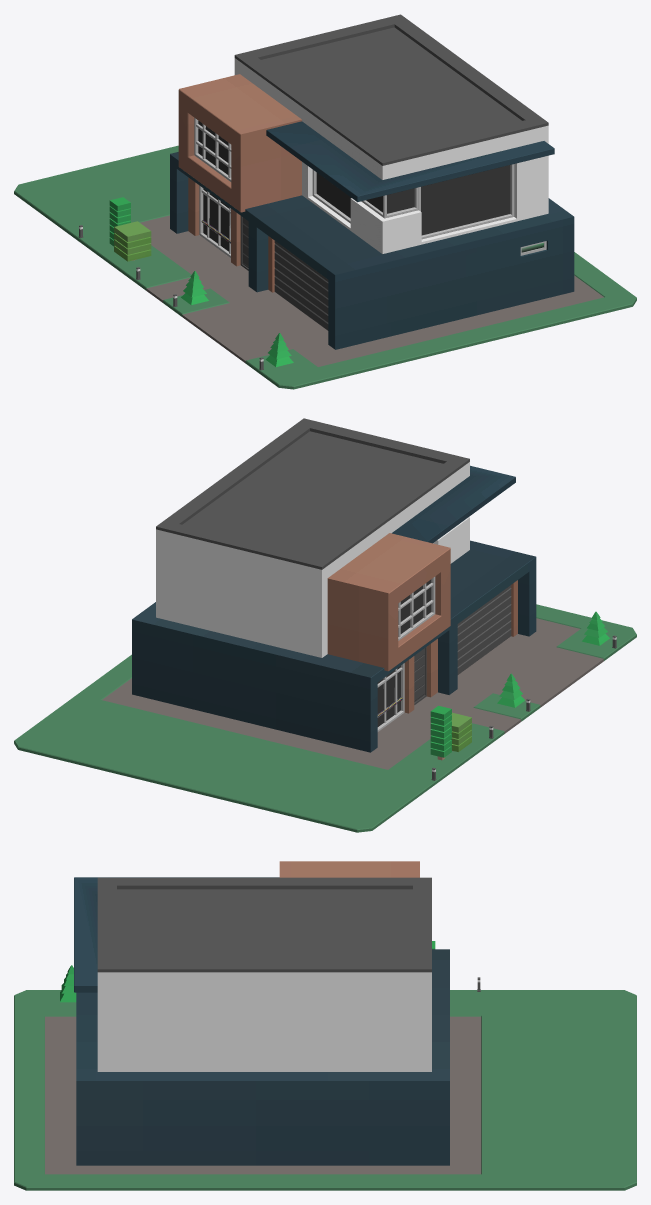
Rendered from bldg-house-c.glb.
3 renders of one model, top to bottom at view 1: azimuth 30°, elevation 25°; view 2: azimuth 150°, elevation 25°; view 3: azimuth 270°, elevation 25°, orthographic. The views are drawn at different scales.
Visible parts, largest first — view 1: house_03.001; view 2: house_03.001; view 3: house_03.001.
Part boxes in pixels (<box>): house_03.001: <box>14,14,636,389</box>; house_03.001: <box>14,418,636,832</box>; house_03.001: <box>14,861,636,1190</box>.
Size of the model in its own units: 15 by 6.74 by 20.
1 material, 1 textured.
